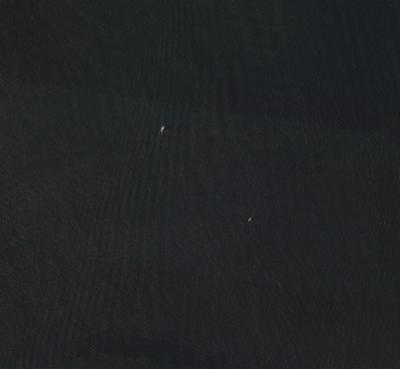Ships: (159, 118, 177, 153), (244, 200, 261, 235)
